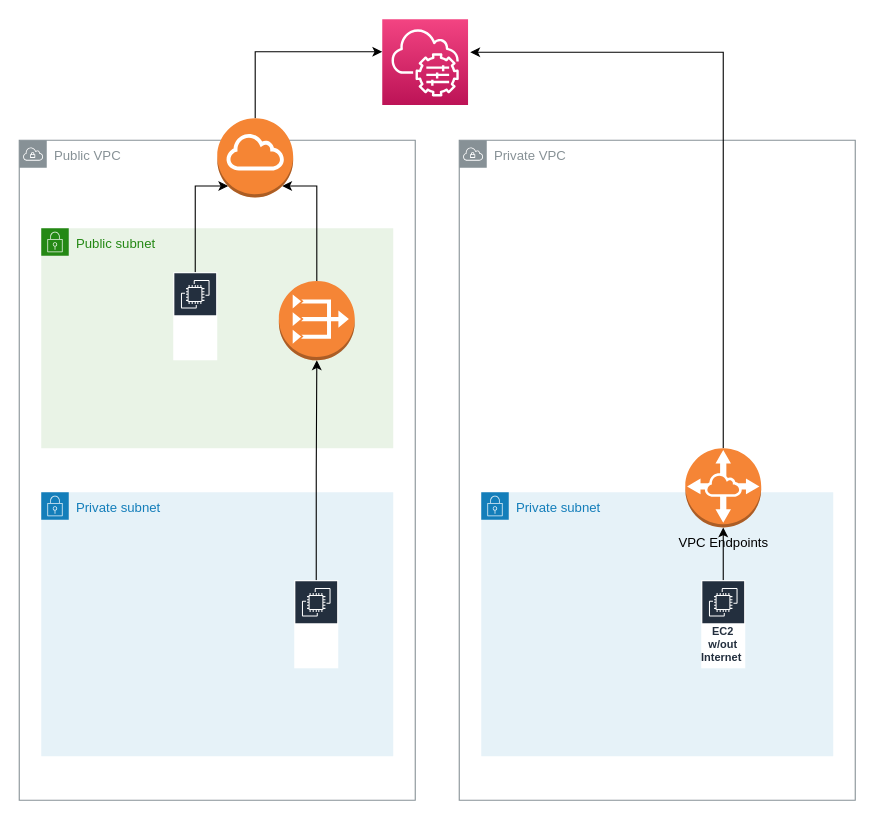
Image size: 875x820. Some labels were removed from this diagram. The centre of each missing label's shape, as x and y in pixels:
AWS Systems Manager: (x=424, y=61)
EC2 w/ EIP: (x=194, y=315)
EC2, no EIP: (x=315, y=623)
Internet Gateway: (x=254, y=157)
